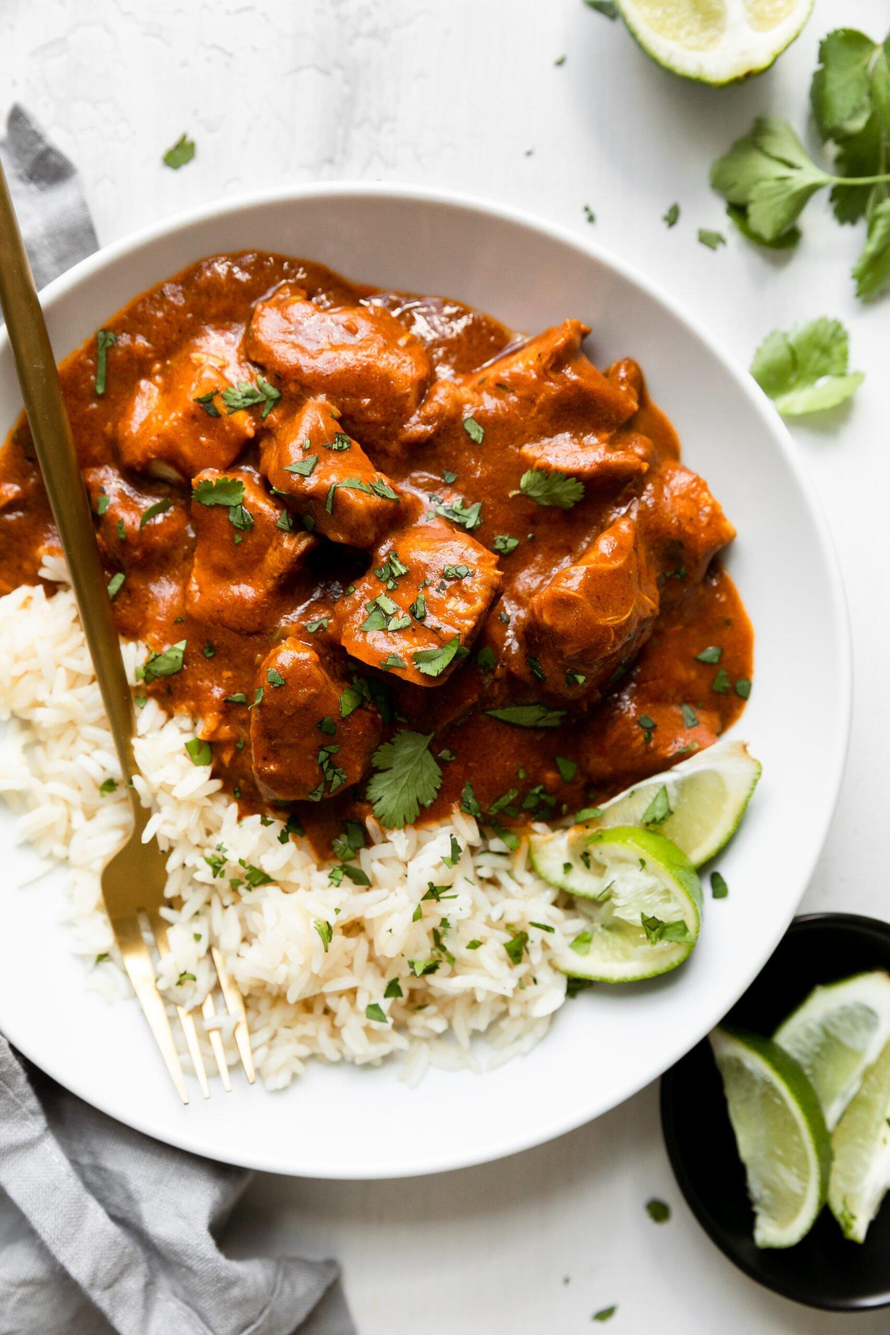chicken: (57, 232, 720, 776)
rice: (0, 581, 563, 1047)
